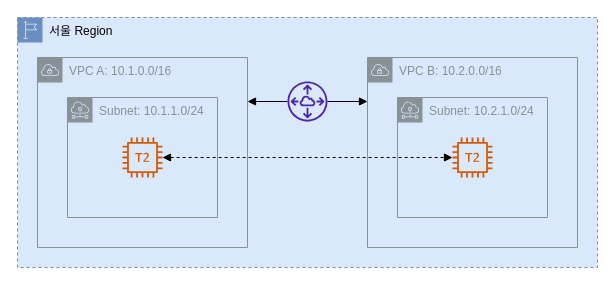
Image size: 615x285. Some labels were removed from this diagram. The shapes that lost their labels are listed below. From the top down, each one's centre as x and y in pixels, then its label:
(x=307, y=101): VPC Peering
(x=142, y=157): EC2 10.1.1.10
(x=472, y=157): EC2 10.2.1.10
